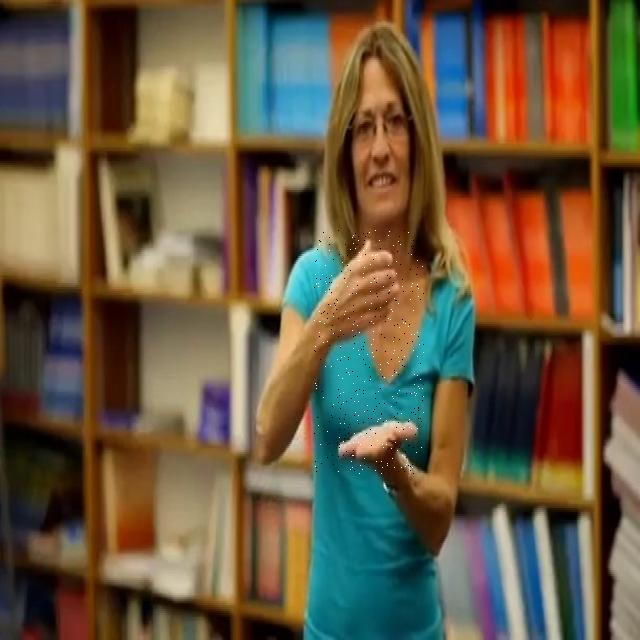cup: (314, 230, 424, 474)
